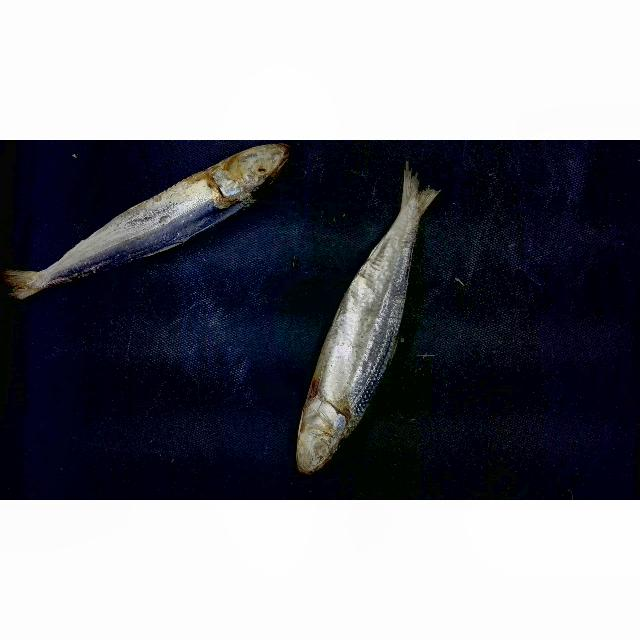Grade_A_Body: (319, 238, 417, 410), (67, 172, 214, 274)
Grade_A_Head: (206, 143, 311, 216), (286, 390, 357, 476)
Grade_A_Tail: (362, 157, 444, 273), (2, 253, 93, 312)
